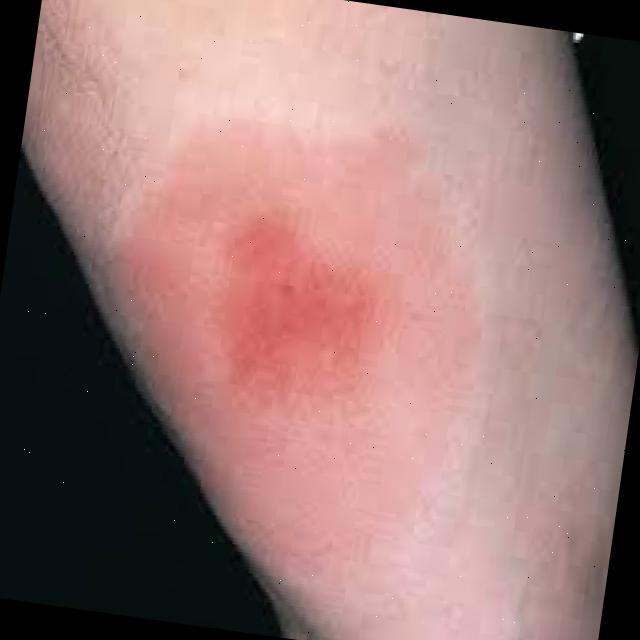kene: (159, 112, 453, 451)
